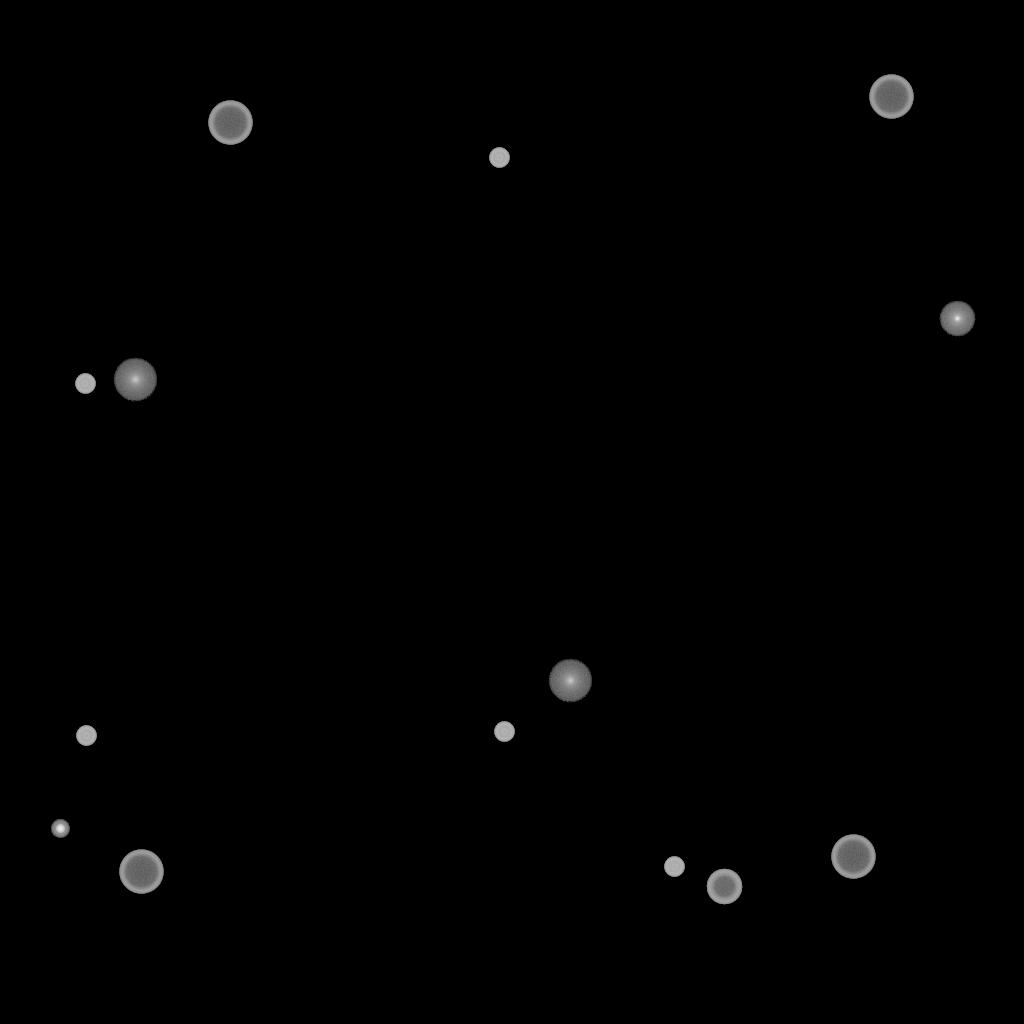depth:-20: (51, 820, 69, 838)
depth:-40: (75, 374, 95, 394), (664, 857, 684, 877), (494, 722, 514, 742), (489, 148, 509, 168), (76, 726, 96, 746)
depth:-60: (706, 869, 742, 905)
depth:-70: (208, 101, 252, 145), (869, 75, 913, 119), (119, 850, 163, 894), (831, 835, 875, 879)
depth:0: (939, 301, 975, 337)
depth:10: (548, 659, 592, 703), (113, 358, 157, 402)
